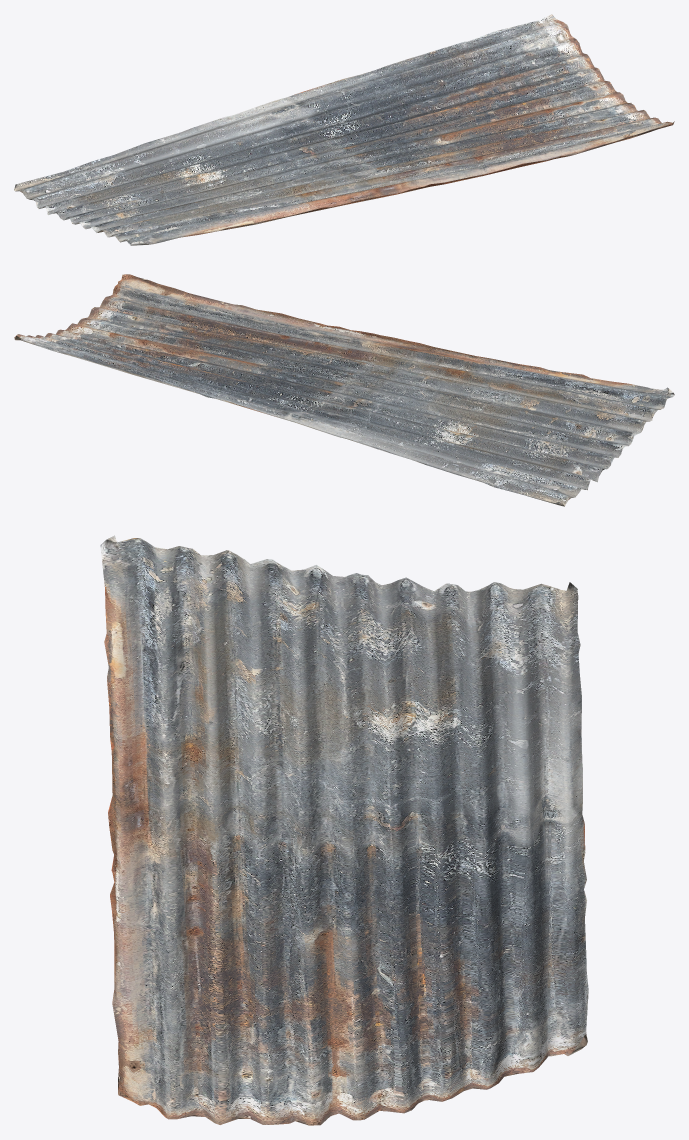
The model's file is SM_Ind_War_Sheet_Metal_Corrugated_01.gltf.
3 views of the same model, one above another, from view 1: azimuth 30°, elevation 25°; view 2: azimuth 150°, elevation 25°; view 3: azimuth 270°, elevation 25° (orthographic). The views are drawn at different scales.
Parts seen in each view (by area): view 1: SM_Ind_War_Sheet_Metal_Corrugated_01; view 2: SM_Ind_War_Sheet_Metal_Corrugated_01; view 3: SM_Ind_War_Sheet_Metal_Corrugated_01.
Part boxes in pixels (left/top/right/bottom): SM_Ind_War_Sheet_Metal_Corrugated_01: left=14, top=14, right=674, bottom=245; SM_Ind_War_Sheet_Metal_Corrugated_01: left=14, top=274, right=674, bottom=506; SM_Ind_War_Sheet_Metal_Corrugated_01: left=100, top=535, right=588, bottom=1125.
Size of the model in its own units: 2.1 by 0.1548 by 0.8053.
Materials: 1 (1 with a texture image).
